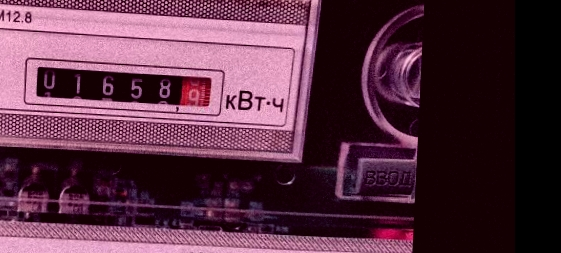0: (42, 67, 56, 90)
1: (72, 72, 83, 94)
5: (129, 75, 144, 99)
6: (100, 73, 115, 96)
8: (157, 76, 172, 98)
9: (185, 86, 200, 108)
screen: (17, 51, 232, 121)
